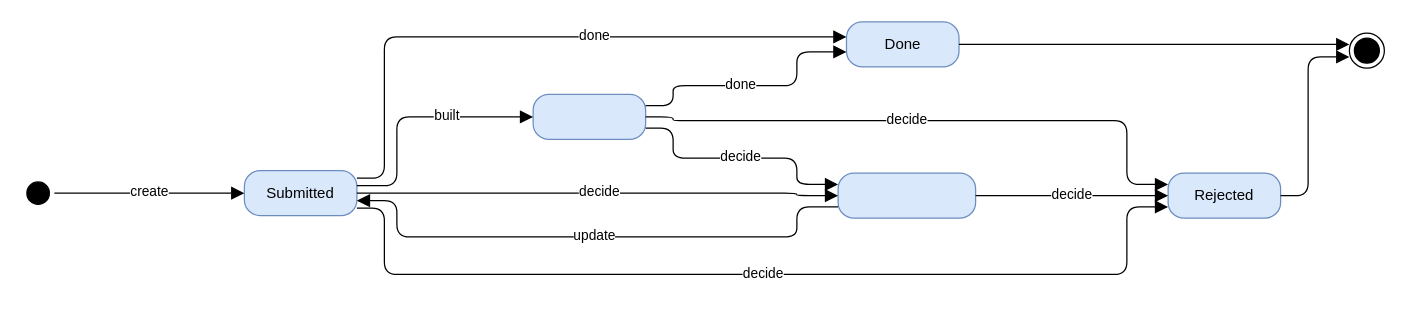
Some shapes in this 1406 by 309 pixel diagram are drawn without their labels. The centre of each missing label's shape, as x and y in pixels:
"In progress" goes at [589,116].
"Needs changes" goes at [906,195].
